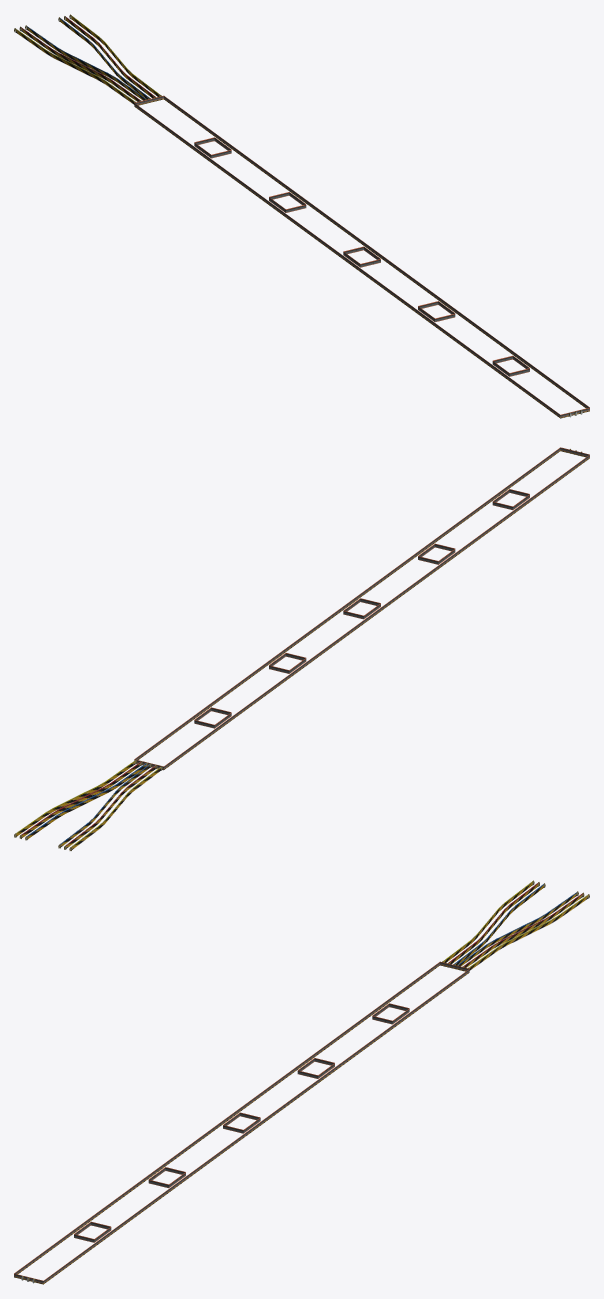
3 views of the same model, one above another, from view 1: azimuth 30°, elevation 25°; view 2: azimuth 150°, elevation 25°; view 3: azimuth 330°, elevation 25° (orthographic).
Visible parts, largest first — view 1: Object_2; view 2: Object_2; view 3: Object_2.
Boxes of the visible parts, x1,y1,x2,y2 form: Object_2: (14, 14, 589, 418); Object_2: (14, 447, 589, 850); Object_2: (14, 880, 589, 1284).
Bounding box in the file's own units: 310 × 20.39 × 5010.
